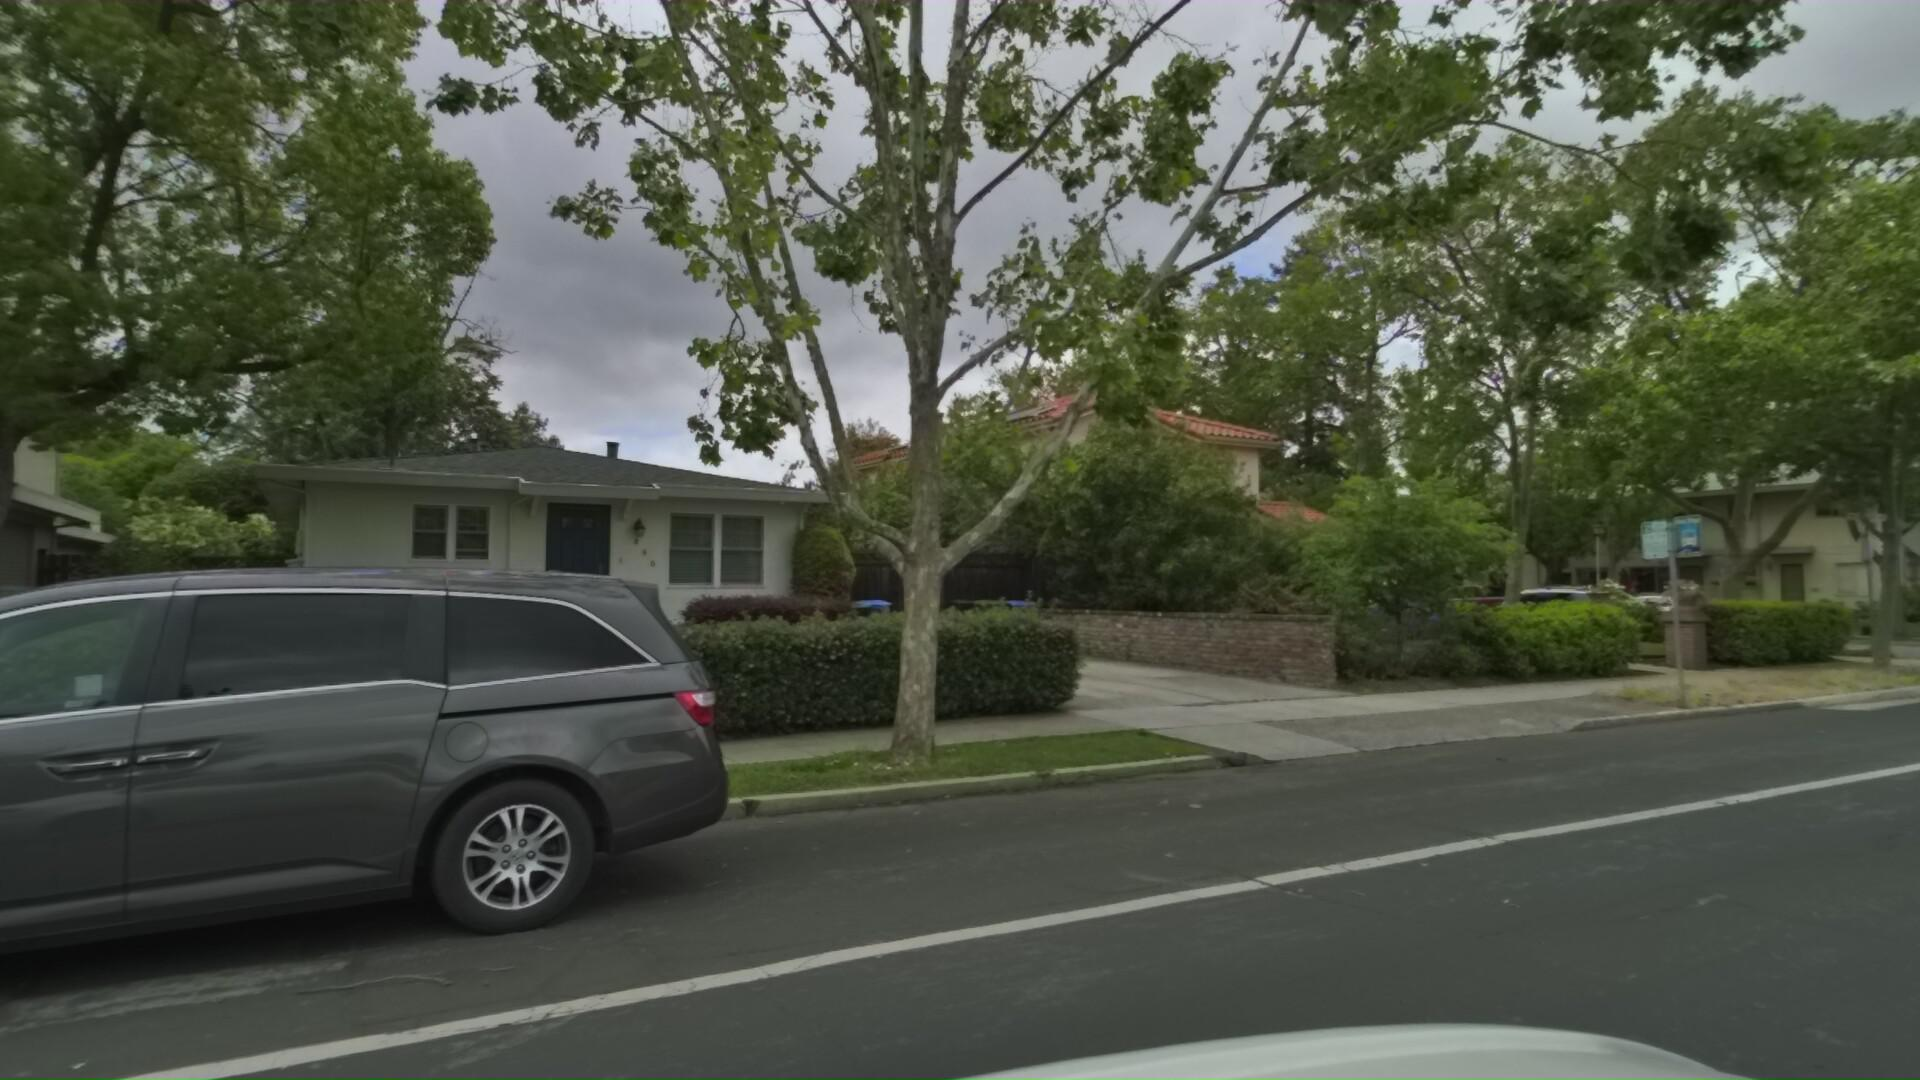car: (0, 562, 738, 1080), (1480, 578, 1695, 644), (1400, 578, 1559, 629)
